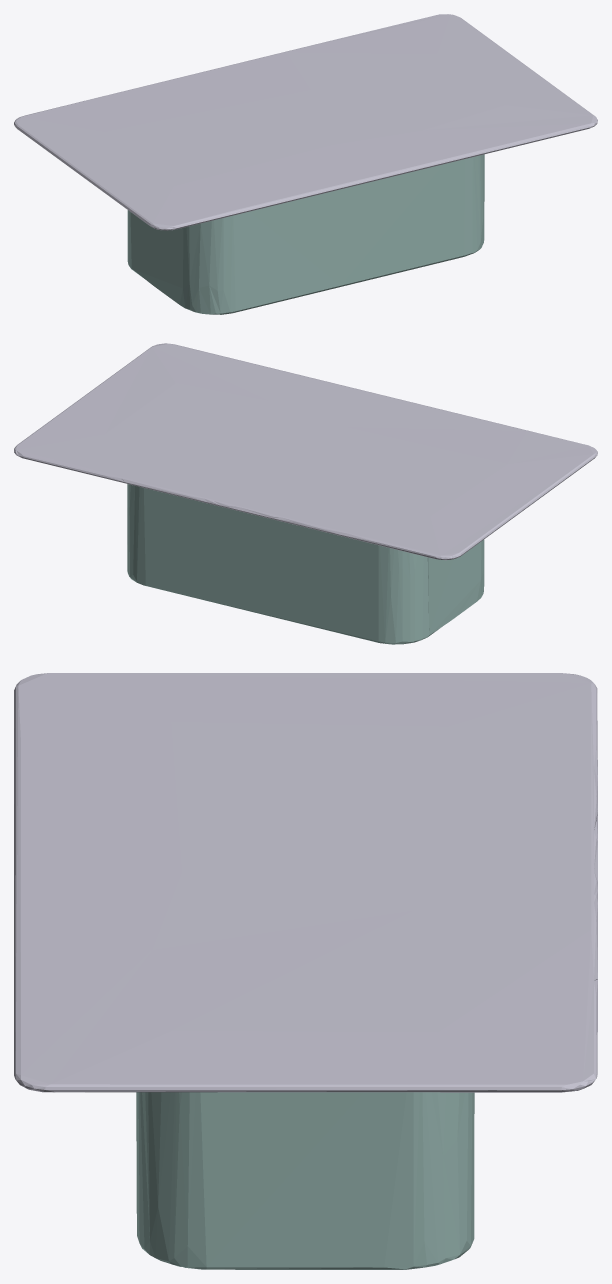
Rendered from hVAPQH-ZKRFIgsQUx9b_0.glb.
3 renders of one model, top to bottom at view 1: azimuth 30°, elevation 25°; view 2: azimuth 150°, elevation 25°; view 3: azimuth 270°, elevation 25°, orthographic. The views are drawn at different scales.
Visible parts, largest first — view 1: geometry_0; view 2: geometry_0; view 3: geometry_0.
Part boxes in pixels (box(x1,y1,x2,y2)): geometry_0: box(14, 14, 597, 314); geometry_0: box(14, 343, 597, 644); geometry_0: box(14, 673, 597, 1269).
Size of the model in its own units: 1.9 by 0.5458 by 1.13.
